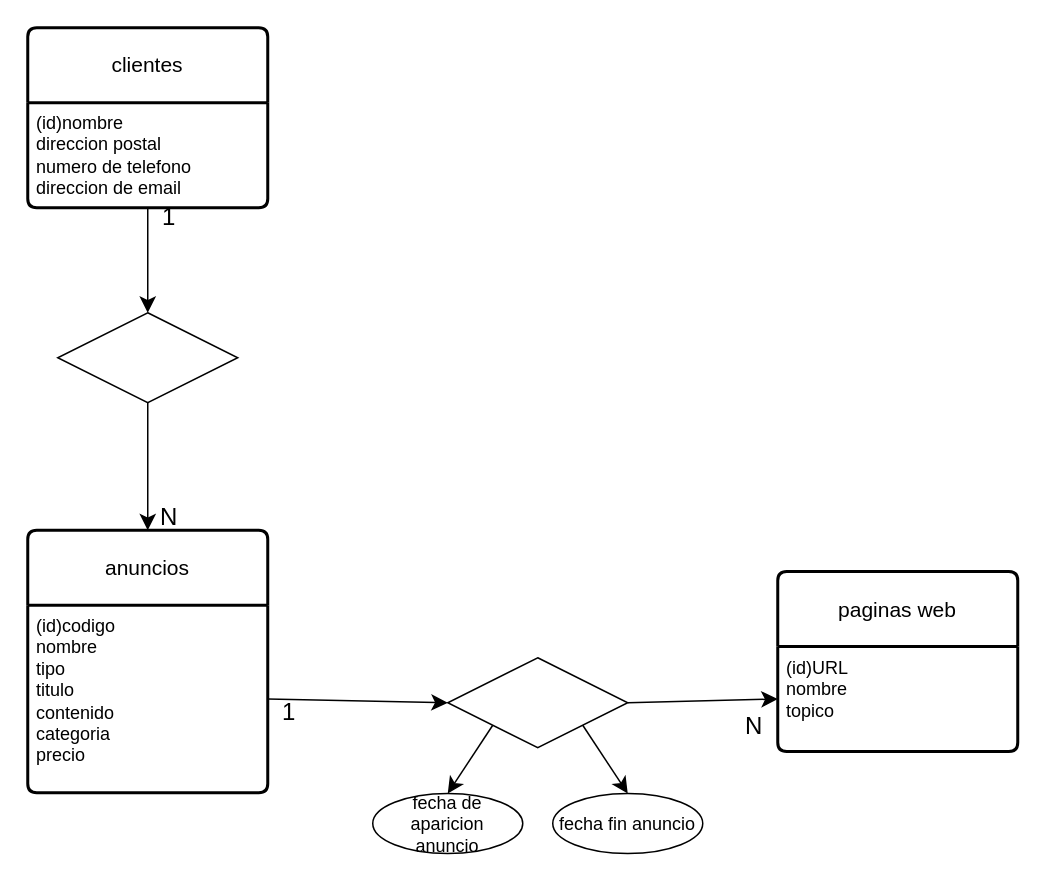
The diagram is 1044 pixels wide and 881 high, and some of its shapes have lost their labels. The shapes that lost their labels are listed below. From the top down, each one's centre as x and y in pixels, then its label:
At point 147,357: "contrata".
At point 537,702: "tienen".
